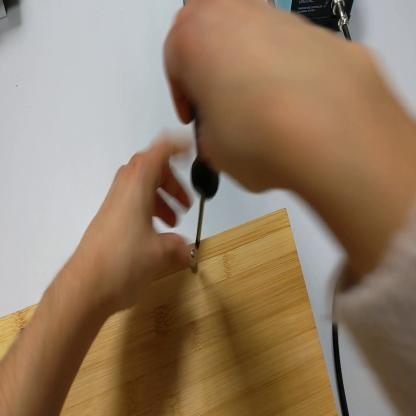hand: (167, 2, 304, 197), (85, 132, 198, 314)
oscilloscope: (1, 1, 9, 22)
screwdriver-: (192, 153, 221, 246)
welder station: (275, 2, 353, 34)
working area: (1, 207, 339, 414)
